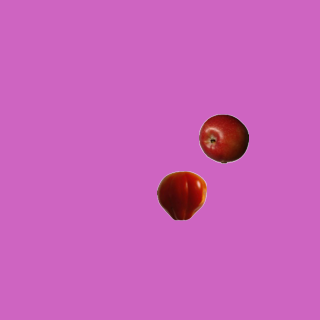Apple Braeburn: (198, 113, 248, 163)
Tomato 1: (156, 170, 206, 220)
